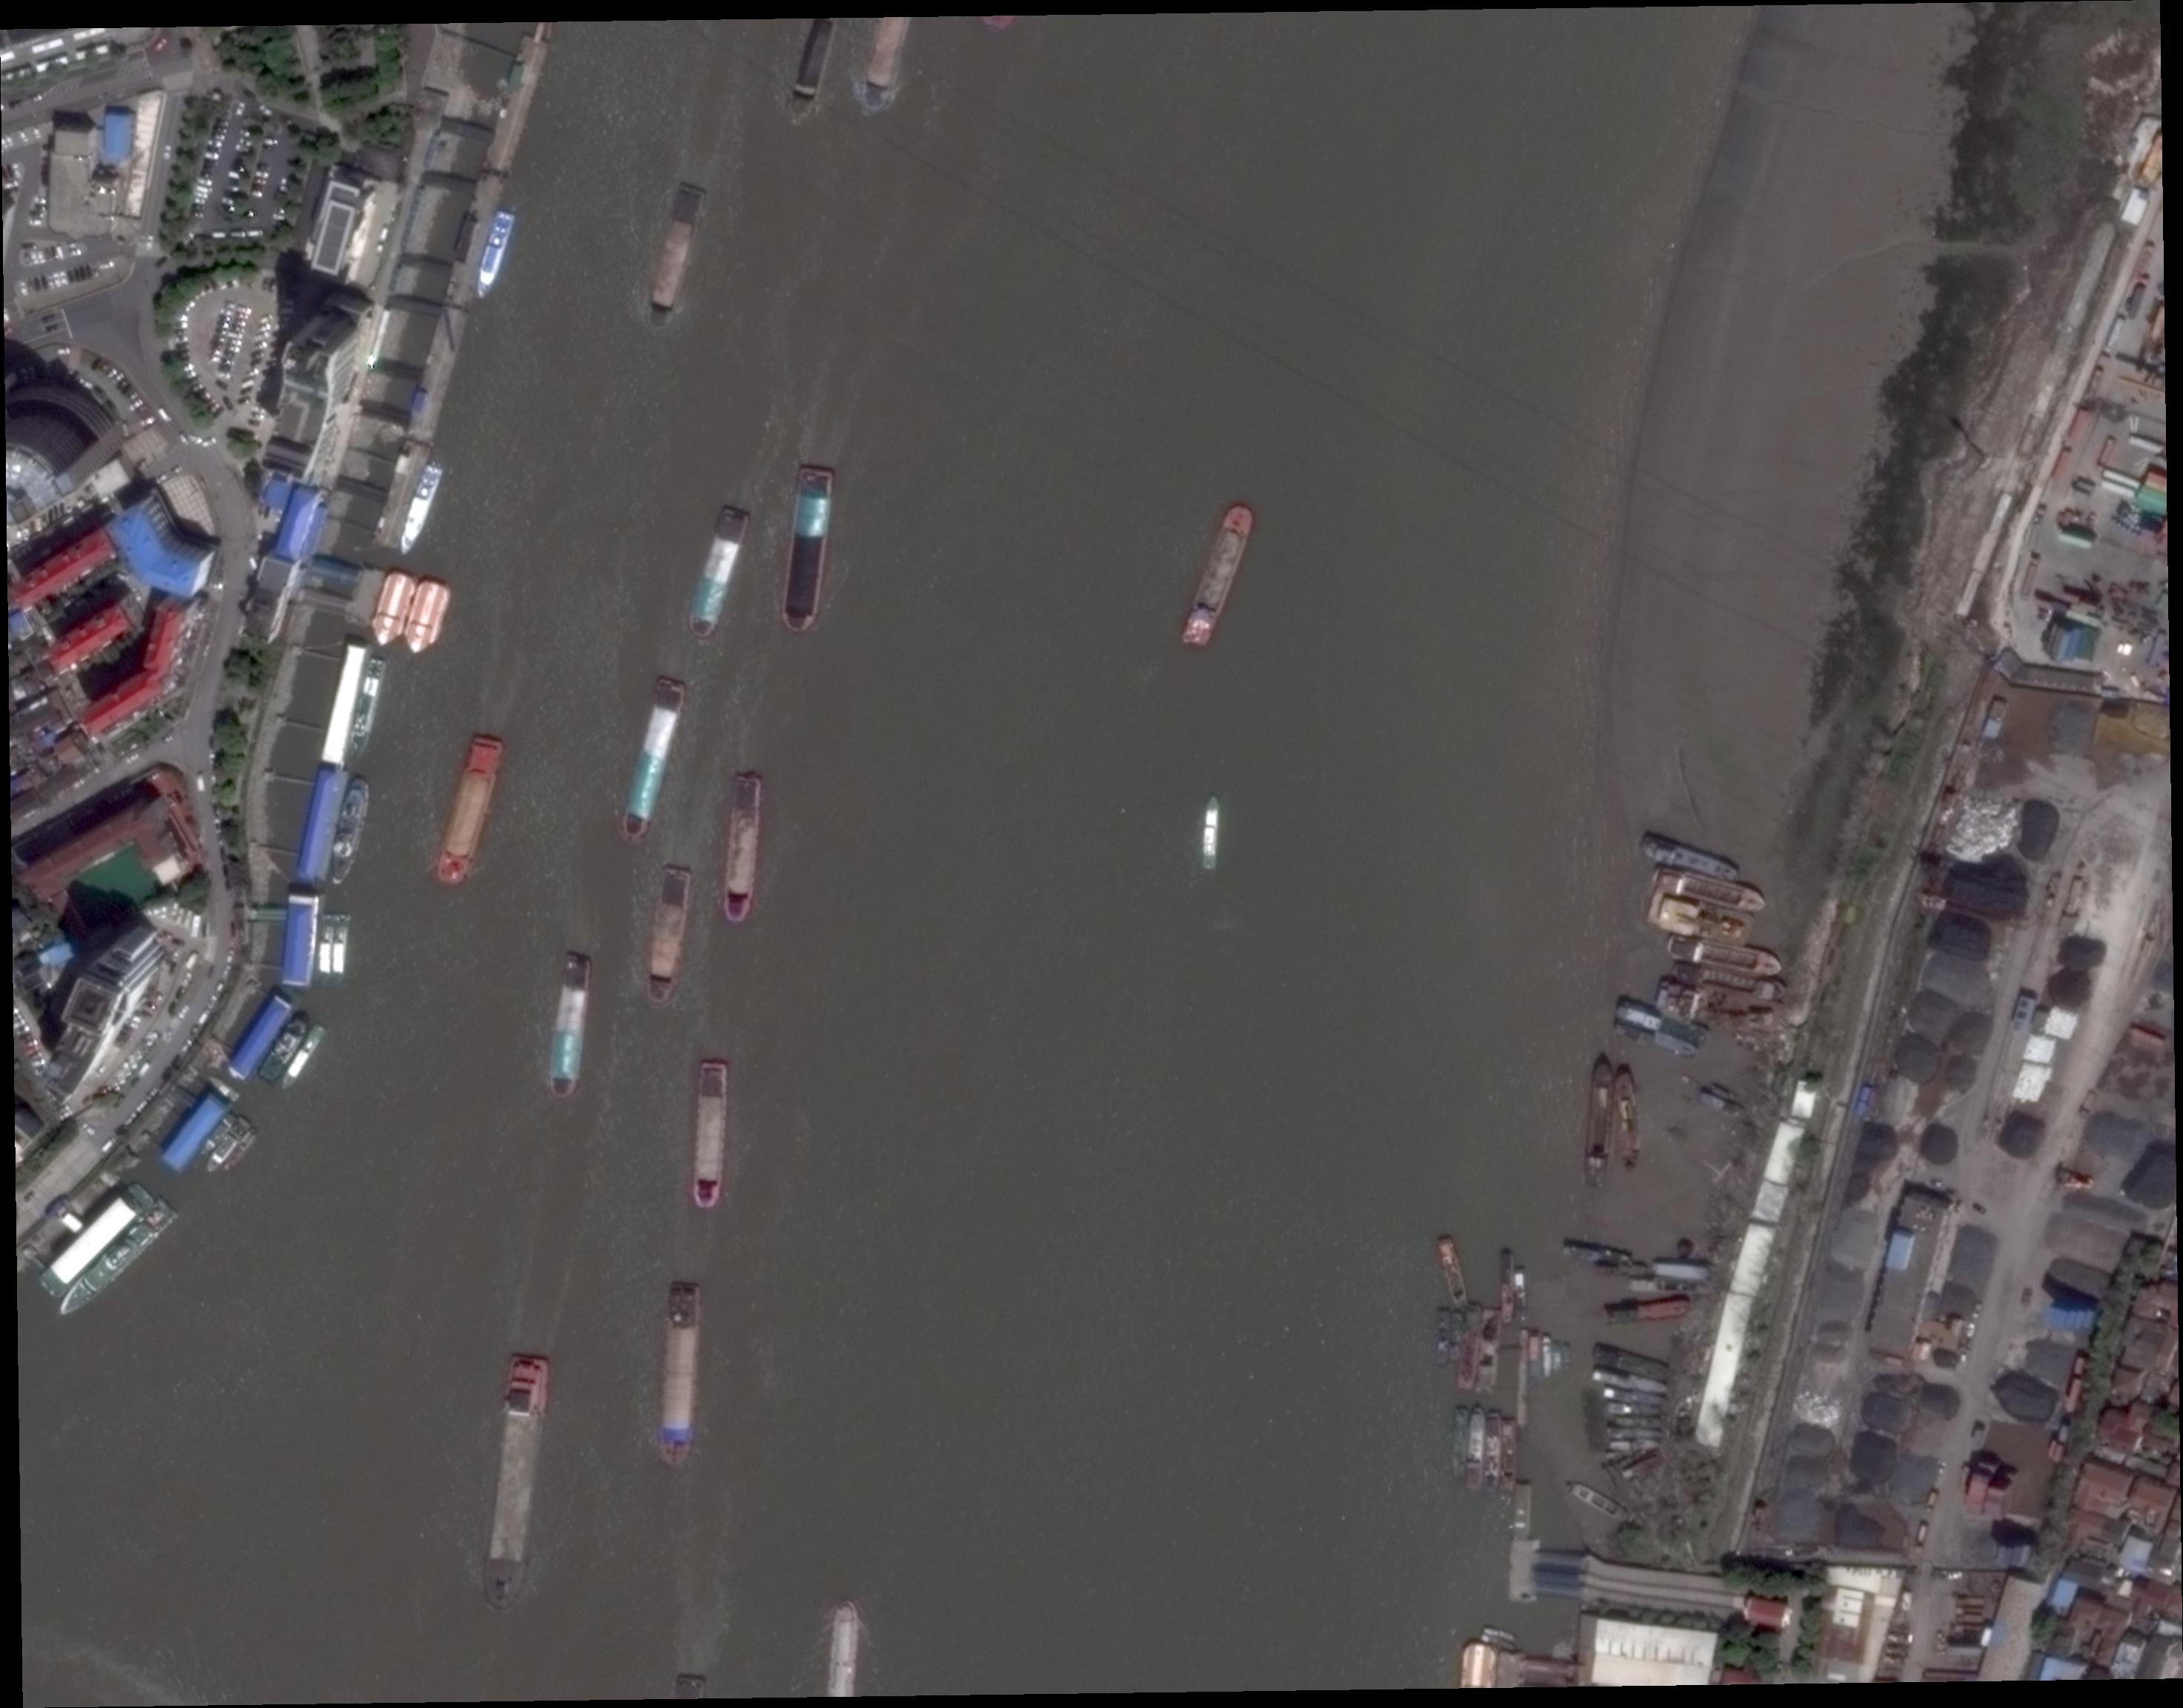ship: (482, 1357, 549, 1611), (55, 1198, 179, 1324), (37, 1182, 156, 1300), (617, 677, 689, 847), (1178, 501, 1258, 654), (434, 735, 505, 888), (780, 466, 835, 633), (684, 505, 751, 640), (659, 1283, 702, 1465), (649, 184, 707, 312), (1646, 888, 1758, 951), (549, 951, 594, 1100), (645, 868, 691, 1005), (1651, 865, 1768, 918), (723, 776, 764, 925), (691, 1065, 730, 1208), (1667, 934, 1784, 982), (326, 776, 374, 886), (1639, 835, 1740, 886), (787, 19, 836, 120), (1671, 960, 1788, 1003), (859, 18, 911, 113), (397, 457, 445, 558), (367, 567, 422, 654), (253, 1010, 315, 1084), (400, 576, 454, 661), (346, 656, 388, 760), (1582, 1060, 1616, 1191), (1616, 999, 1708, 1047), (471, 209, 516, 301), (1611, 1019, 1701, 1061), (276, 1024, 330, 1093), (827, 1598, 863, 1697), (1591, 1343, 1671, 1384), (1565, 1479, 1630, 1526), (204, 1116, 252, 1175), (1435, 1237, 1471, 1308), (1607, 1299, 1692, 1327), (1616, 1072, 1641, 1168), (1593, 1364, 1667, 1396), (1476, 1308, 1503, 1394), (1457, 1304, 1483, 1391), (1465, 1407, 1488, 1490), (198, 1113, 237, 1159), (1563, 1242, 1630, 1269), (1483, 1410, 1504, 1490), (223, 1127, 259, 1173), (1451, 1405, 1472, 1479), (1201, 794, 1221, 870), (1499, 1419, 1517, 1497), (1627, 1277, 1712, 1293), (1604, 1386, 1666, 1407), (319, 914, 337, 987), (1653, 1262, 1712, 1283), (333, 912, 349, 985), (1501, 1253, 1515, 1325), (1448, 1311, 1464, 1366), (1607, 1403, 1662, 1417), (1437, 1309, 1449, 1368), (1607, 1428, 1664, 1440), (1616, 1416, 1662, 1430), (1529, 1336, 1542, 1386), (1542, 1334, 1554, 1378), (1609, 1440, 1660, 1451), (1554, 1341, 1563, 1375), (1563, 1343, 1572, 1373)
